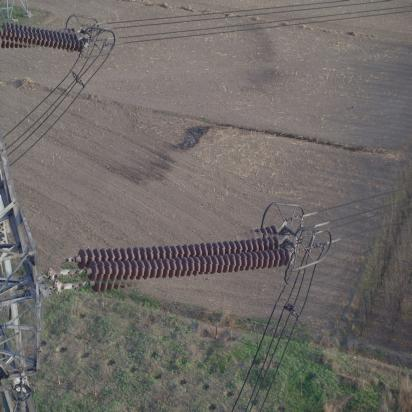insulator: (63, 218, 296, 301), (1, 22, 88, 55)
